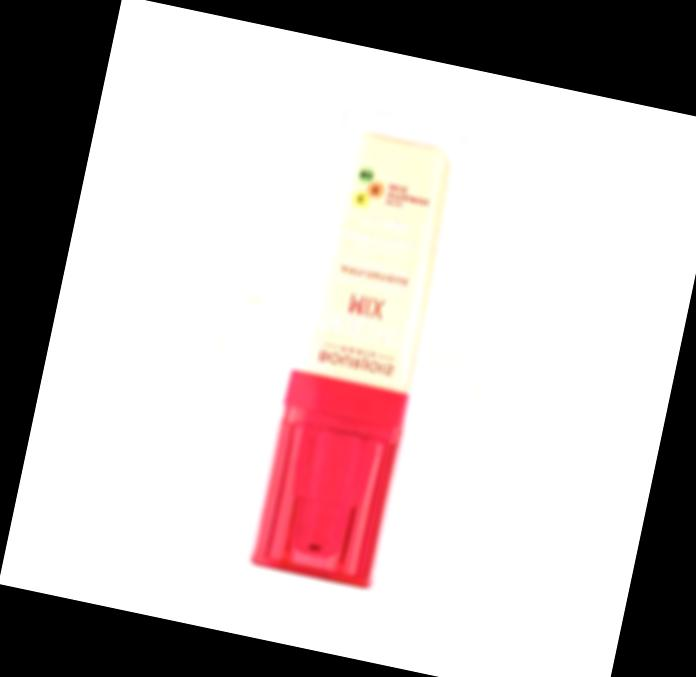cosmetic: (243, 94, 475, 590)
